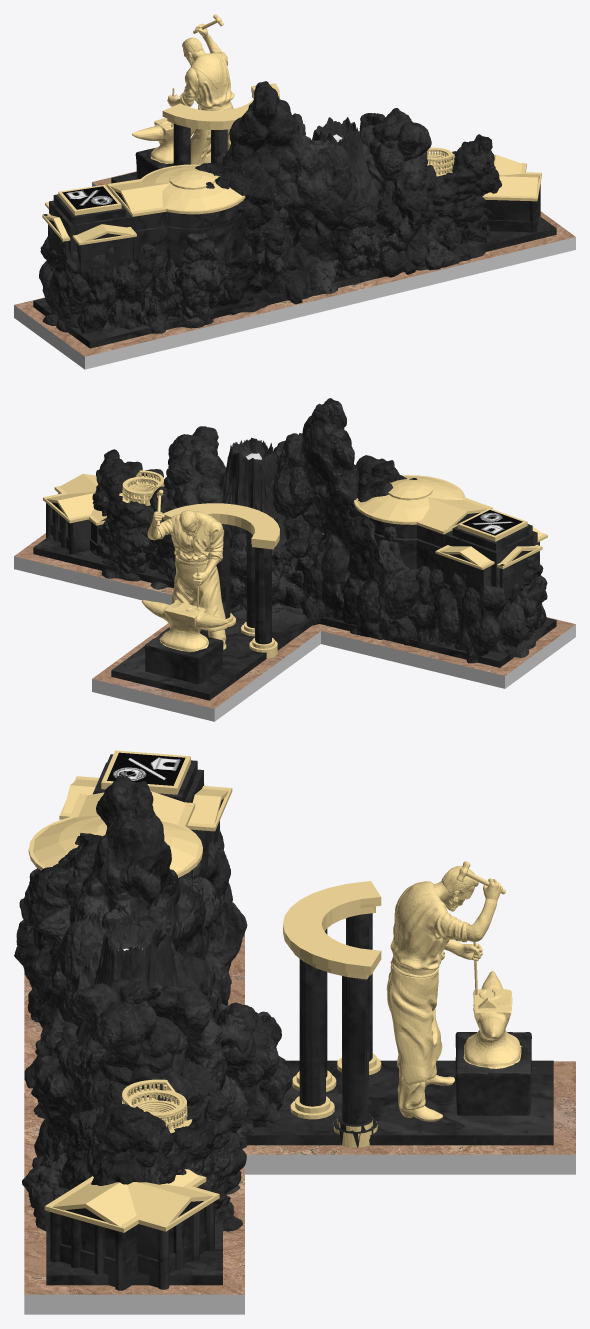
File: buildingTemploVulcano.glb
The picture shows the model from 3 angles, top to bottom: view 1: azimuth 30°, elevation 25°; view 2: azimuth 150°, elevation 25°; view 3: azimuth 270°, elevation 25°; orthographic projection. The views are drawn at different scales.
Visible parts, largest first — view 1: TemploVulcano; view 2: TemploVulcano; view 3: TemploVulcano.
Boxes of the visible parts, x1=… form: TemploVulcano: x1=14, y1=14, x2=575, y2=369; TemploVulcano: x1=14, y1=398, x2=575, y2=721; TemploVulcano: x1=14, y1=750, x2=575, y2=1314.
Bounding box in the file's own units: 8 × 3.24 × 5.09.
5 materials, 3 textured.
